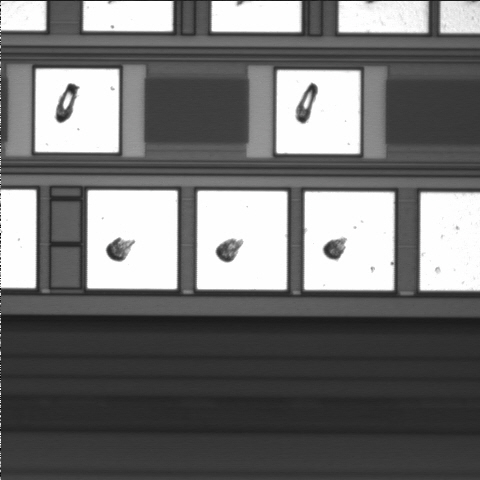pad: (87, 190, 177, 289), (197, 191, 287, 290), (304, 192, 394, 290), (276, 70, 360, 154), (35, 69, 119, 152)
